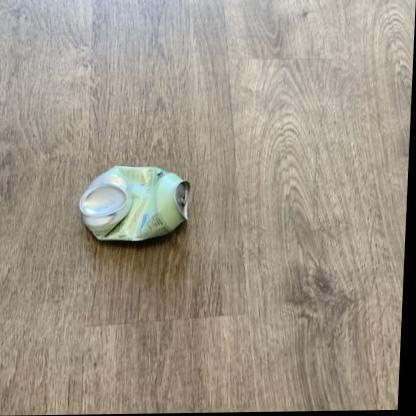trash: (80, 166, 189, 240)
